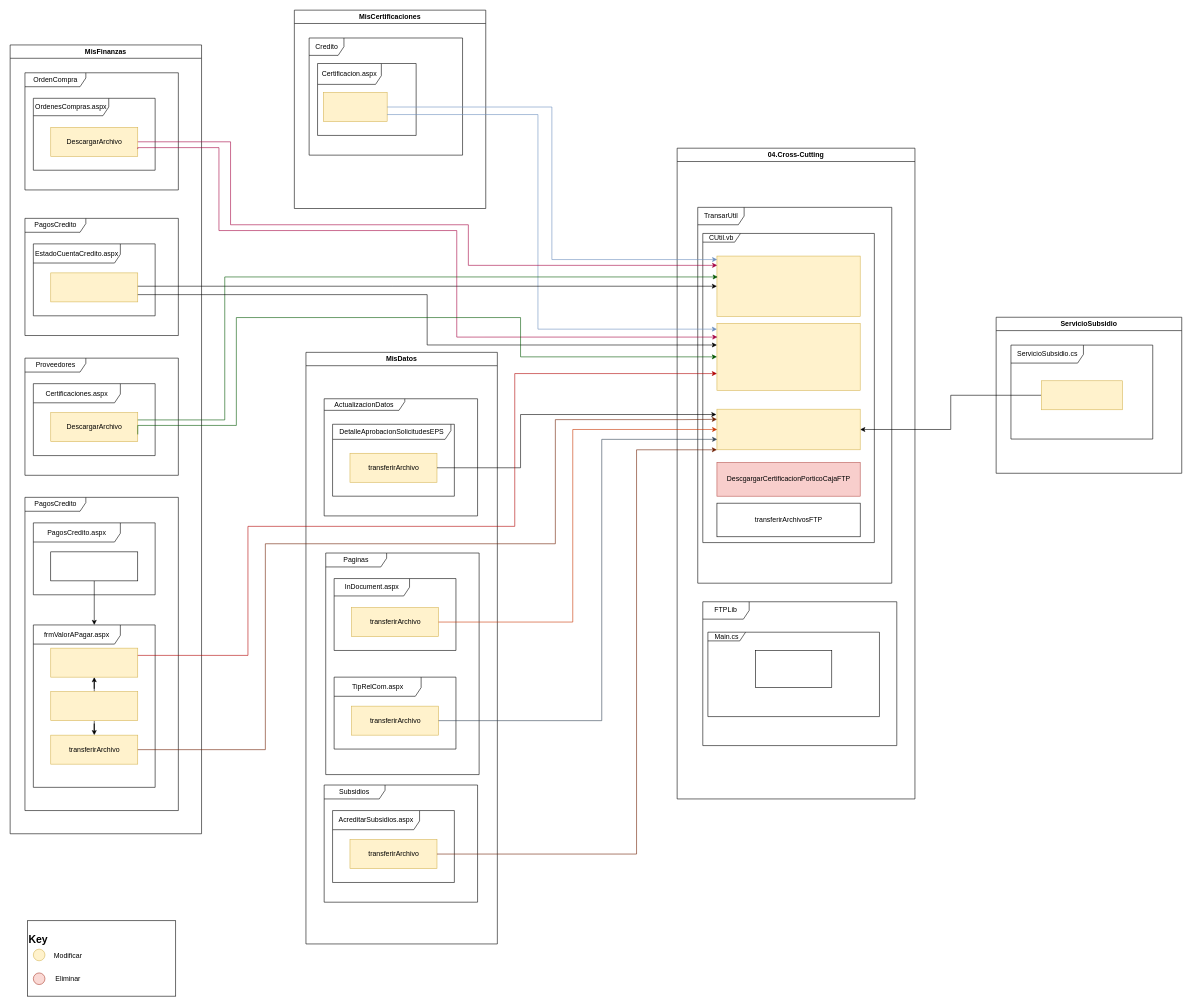
The diagram is 1192 pixels wide and 1006 high, and some of its shapes have lost their labels. The centre of each missing label's shape, as x and y in pixels:
BotonClick: the point at 94,566
CargarArchivosFileServer: the point at 788,429
DescargarArchivosFileServer: the point at 788,285
EliminarArchivoFTP: the point at 94,662
EliminarArchivosFileServer: the point at 788,356
FtpConnect: the point at 793,669
FtpDownloadFile: the point at 94,287
GeneraDiv: the point at 1081,395
Guardar_Click: the point at 355,107
Page_Load: the point at 94,706
